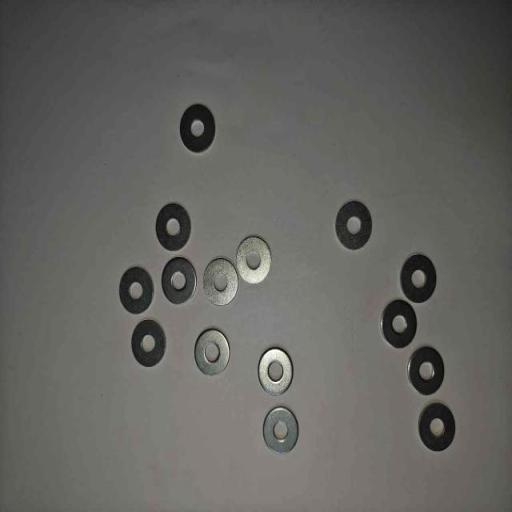washer: (418, 401, 456, 452), (256, 346, 294, 396), (335, 200, 373, 250), (400, 254, 438, 304), (380, 298, 418, 348), (407, 346, 445, 396), (202, 258, 240, 307), (155, 202, 192, 252), (262, 406, 300, 454), (235, 236, 272, 285), (161, 256, 197, 306), (194, 328, 231, 376), (130, 319, 166, 368), (180, 104, 215, 154), (118, 266, 154, 314)
